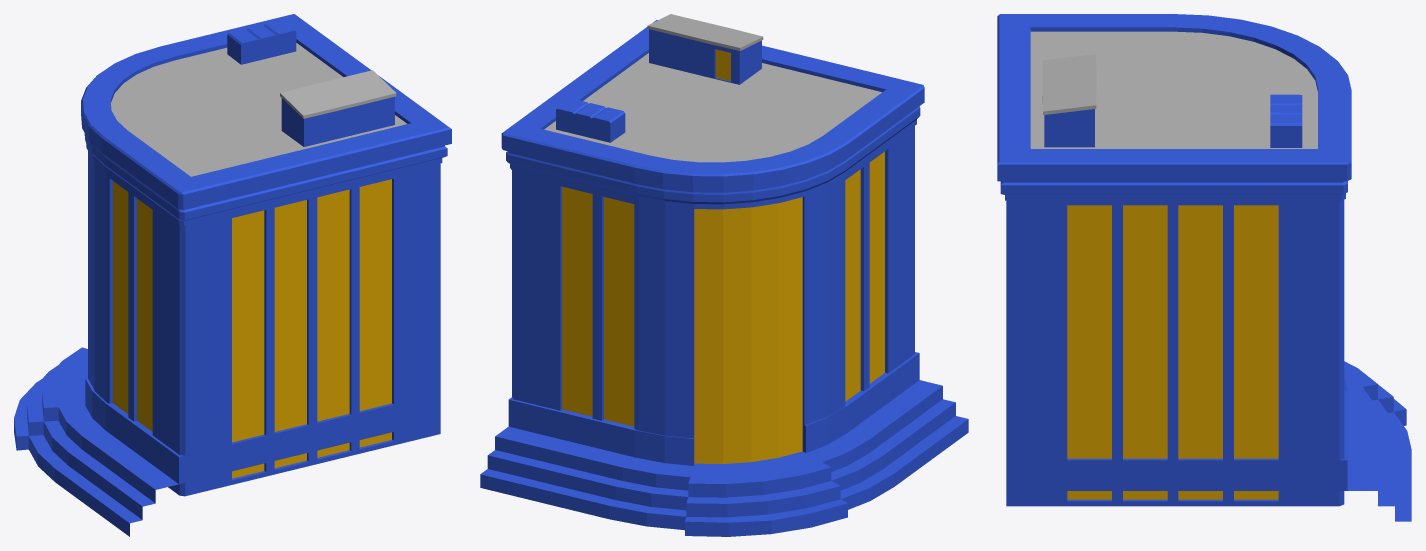
Rendered from Building4.fbx.
3 views of the same model, side by side, from view 1: azimuth 30°, elevation 25°; view 2: azimuth 150°, elevation 25°; view 3: azimuth 270°, elevation 25° (orthographic). The views are drawn at different scales.
Parts seen in each view (by area): view 1: Tower 4, Roof 4, Base 4; view 2: Tower 4, Roof 4, Base 4; view 3: Tower 4, Roof 4, Base 4.
Part boxes in pixels (x1,y1,x2,y2): Tower 4: (88, 151, 440, 496); Roof 4: (81, 14, 451, 225); Base 4: (14, 347, 440, 536); Tower 4: (512, 126, 914, 464); Roof 4: (501, 14, 924, 209); Base 4: (480, 352, 968, 536); Tower 4: (1006, 200, 1344, 506); Roof 4: (997, 14, 1351, 200); Base 4: (1006, 361, 1411, 521).
Bounding box in the file's own units: 123 × 136 × 123.
